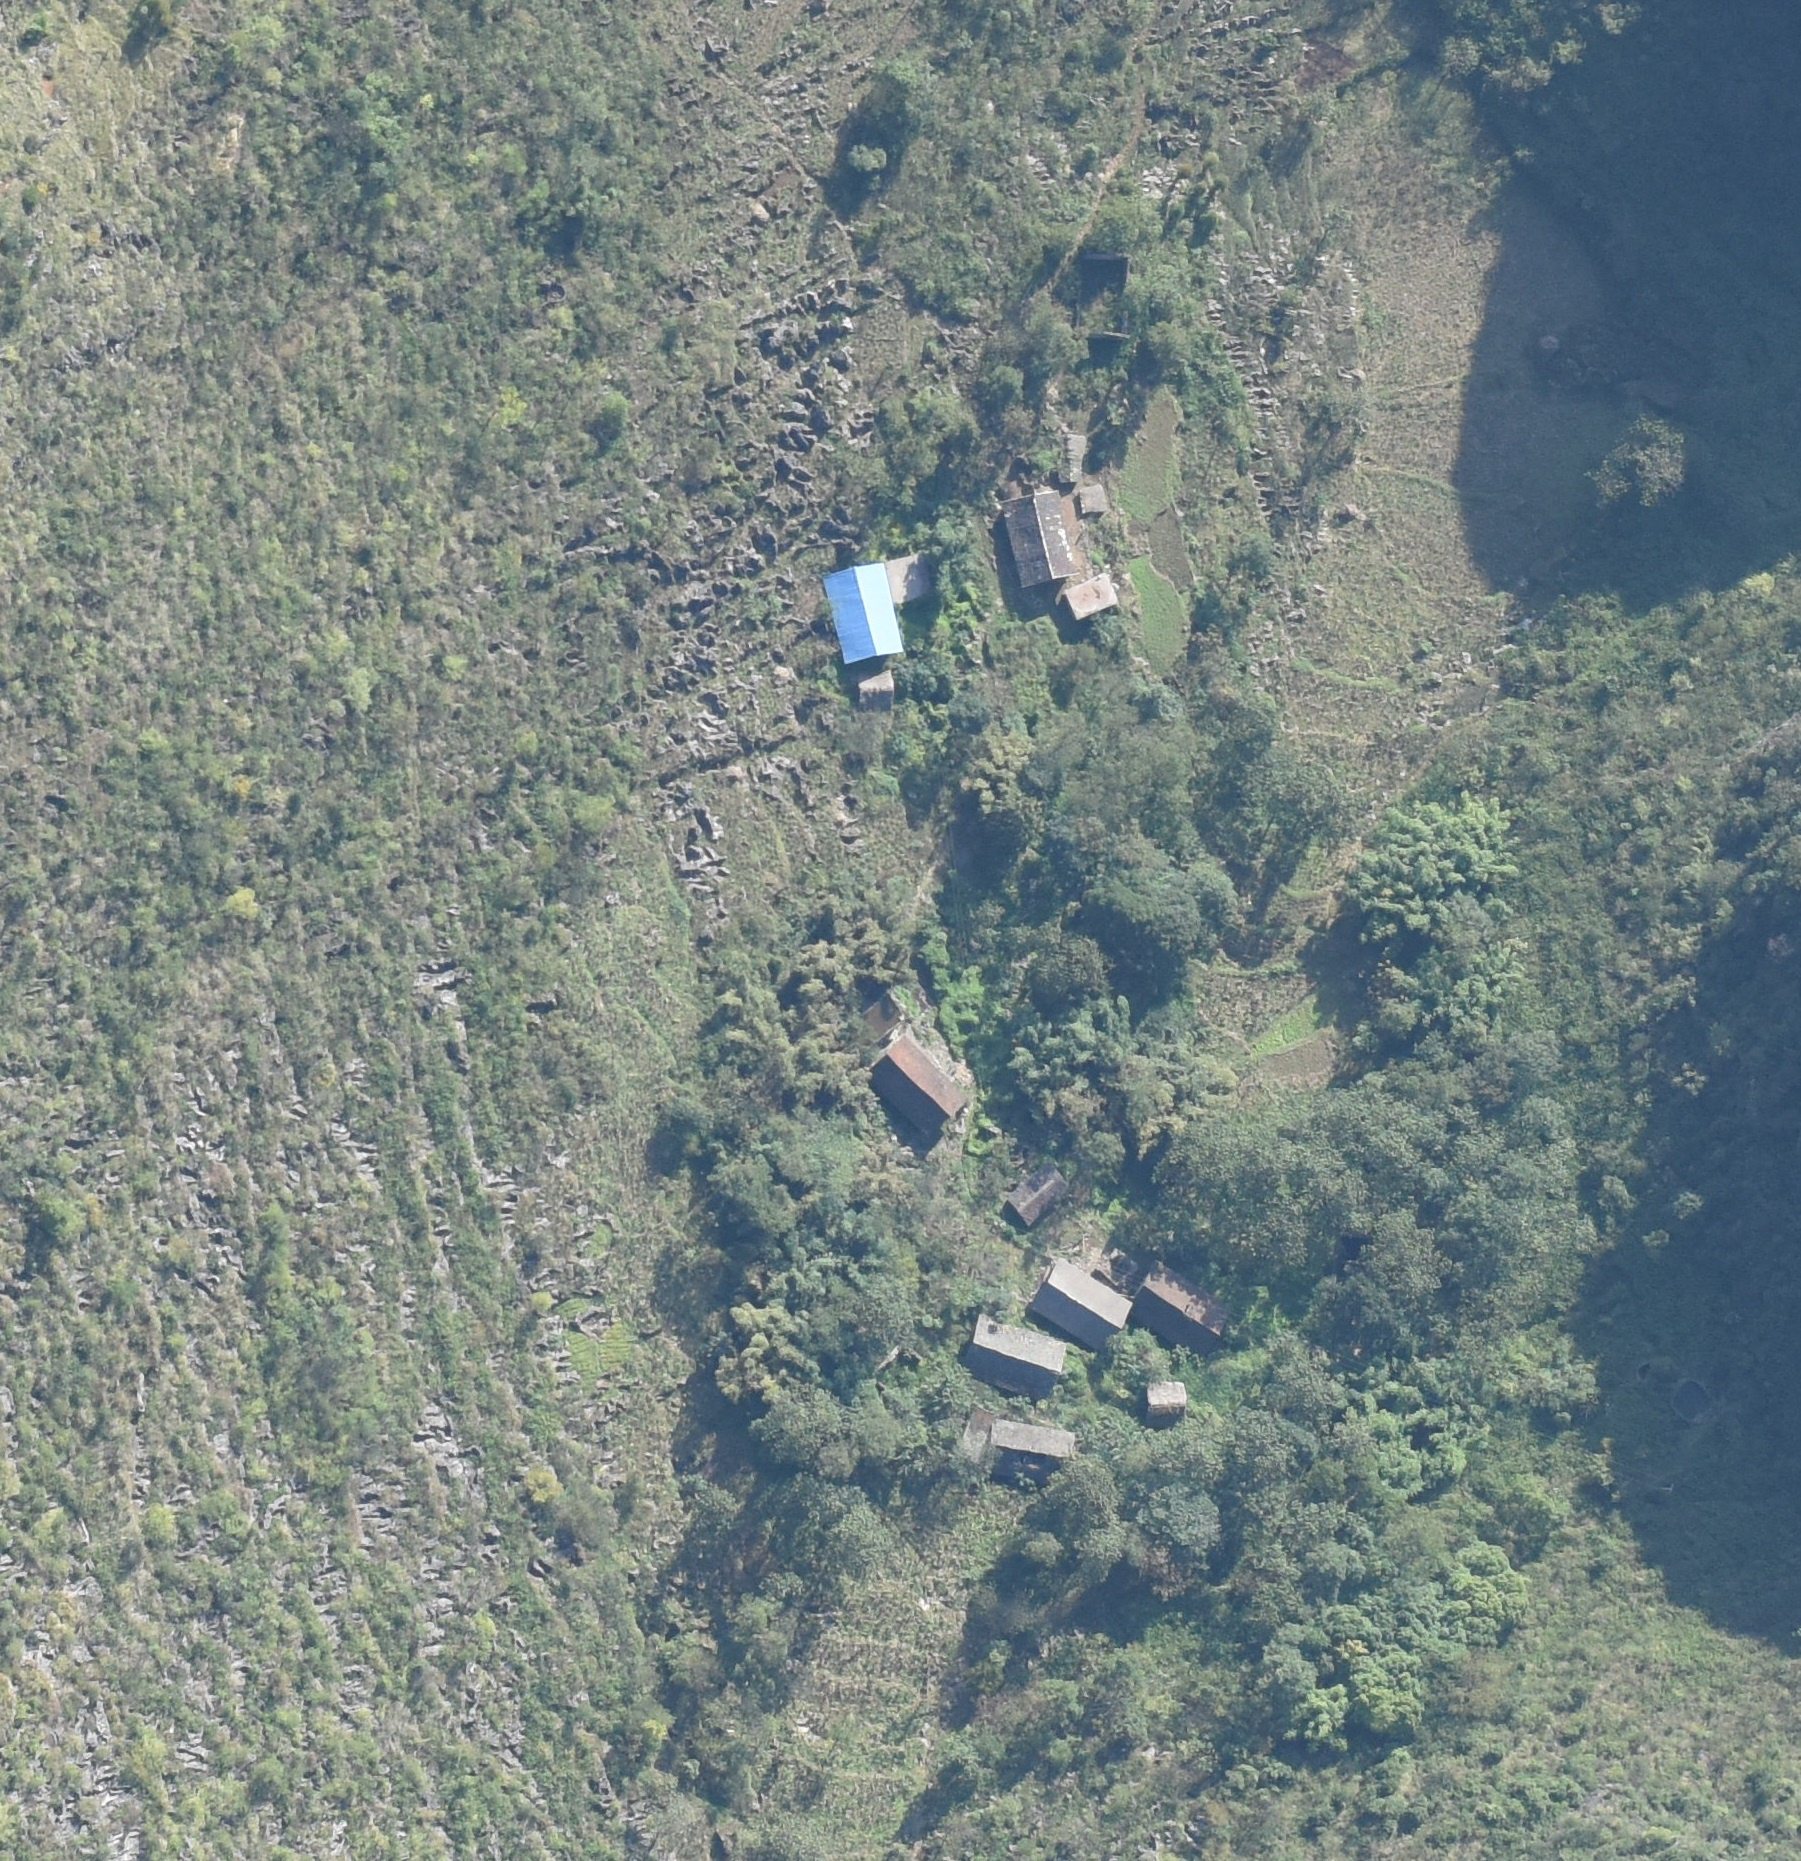building: (1135, 1259, 1235, 1364), (1031, 1254, 1130, 1348), (873, 1038, 964, 1137), (965, 1316, 1065, 1391), (978, 1415, 1082, 1485), (999, 491, 1072, 585), (1003, 1161, 1069, 1221), (886, 554, 935, 600), (1067, 574, 1120, 616), (1142, 1383, 1189, 1422), (854, 668, 899, 707), (1060, 431, 1091, 482), (1077, 486, 1107, 513)
prefabricated-house: (821, 560, 902, 663)
